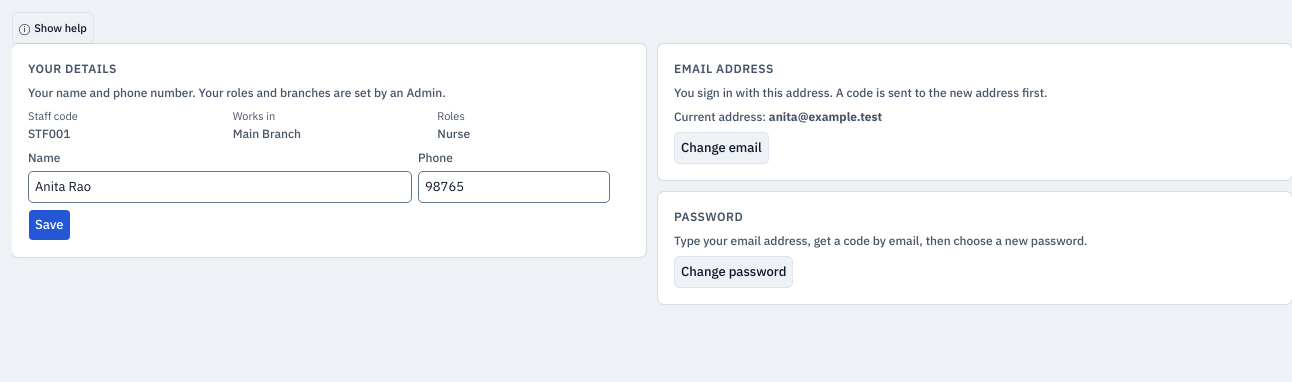
changing the email address › shows the current address and only asks for the new one when Change email is pressed
Expected: the text "anita@example.test" is shown, [769,109,882,124]
Expected: the field labelled "New email address" is not shown
Click the button "Change email" at (721, 148), box [674,132,769,164]
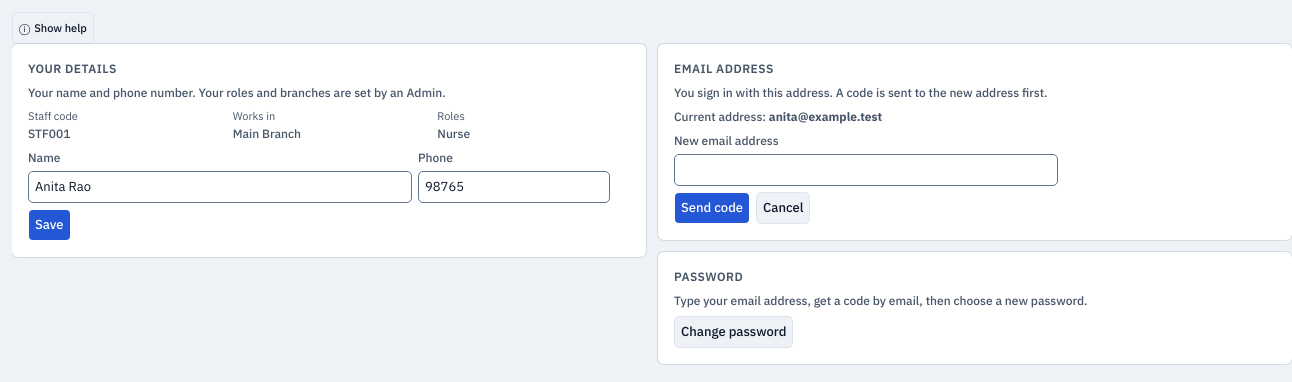
Now the field labelled "New email address" is shown, box [674,154,1058,186]
